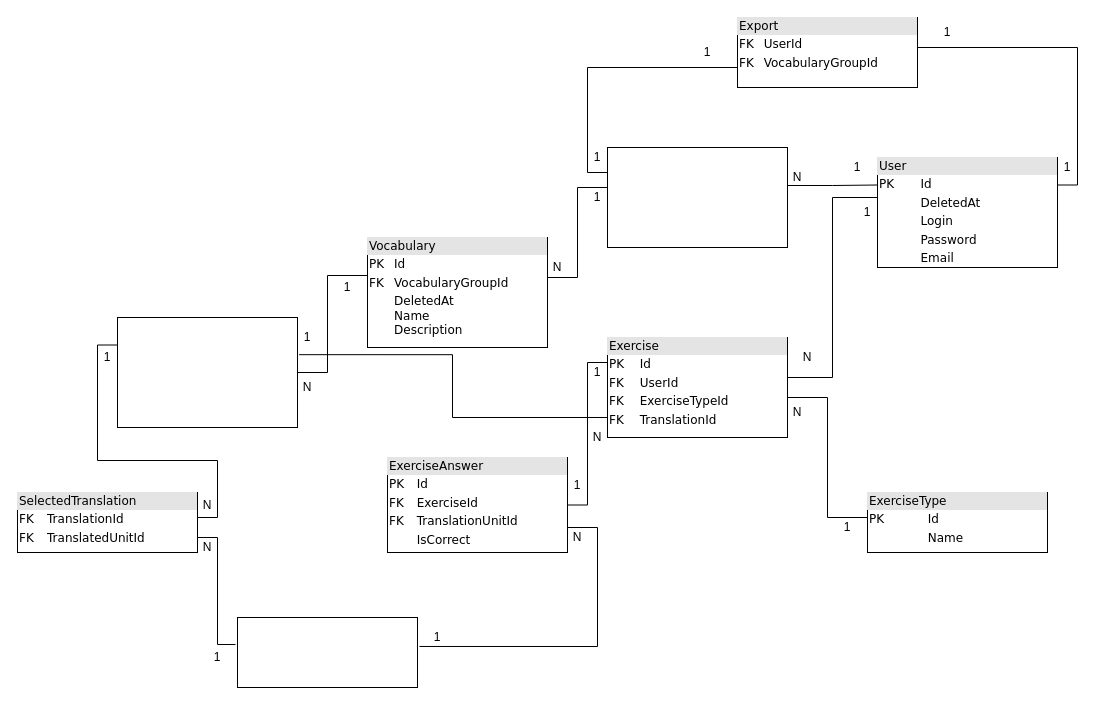
Image size: 1105x705. Some labels were removed from this diagram. The box of each missing label's shape, as (x1, y1, x2, y2) in pixels:
TranslatedUnit PK Id Name: (236, 616, 418, 688)
Translation PK Id FK VocabularyId DeletedAt TranslationSubject Context: (116, 316, 298, 428)
VocabularyGroup PK Id FK UserId DeletedAt Name Description: (606, 146, 788, 248)
